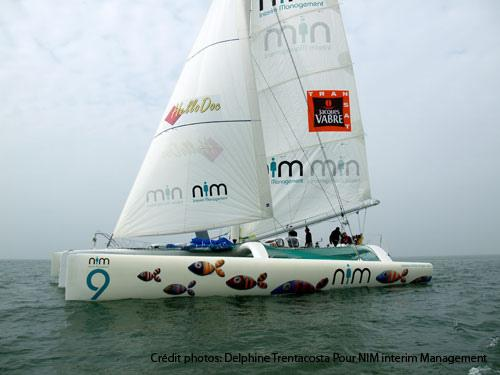Ship: (56, 1, 435, 298)
